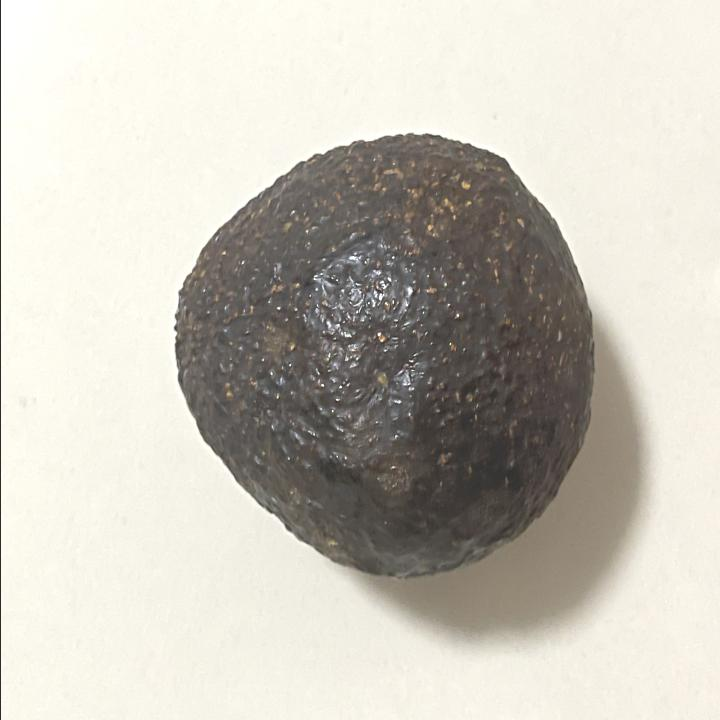Level3: (162, 117, 602, 589)
